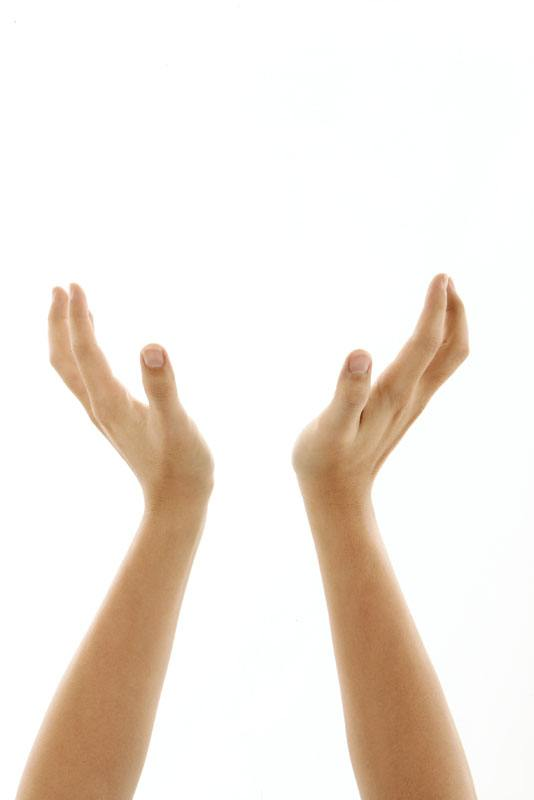no-phone: (40, 278, 226, 506), (290, 268, 475, 492)
